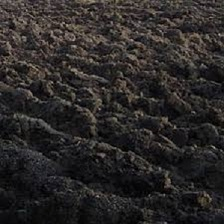loamy_soil: (10, 23, 207, 192)
